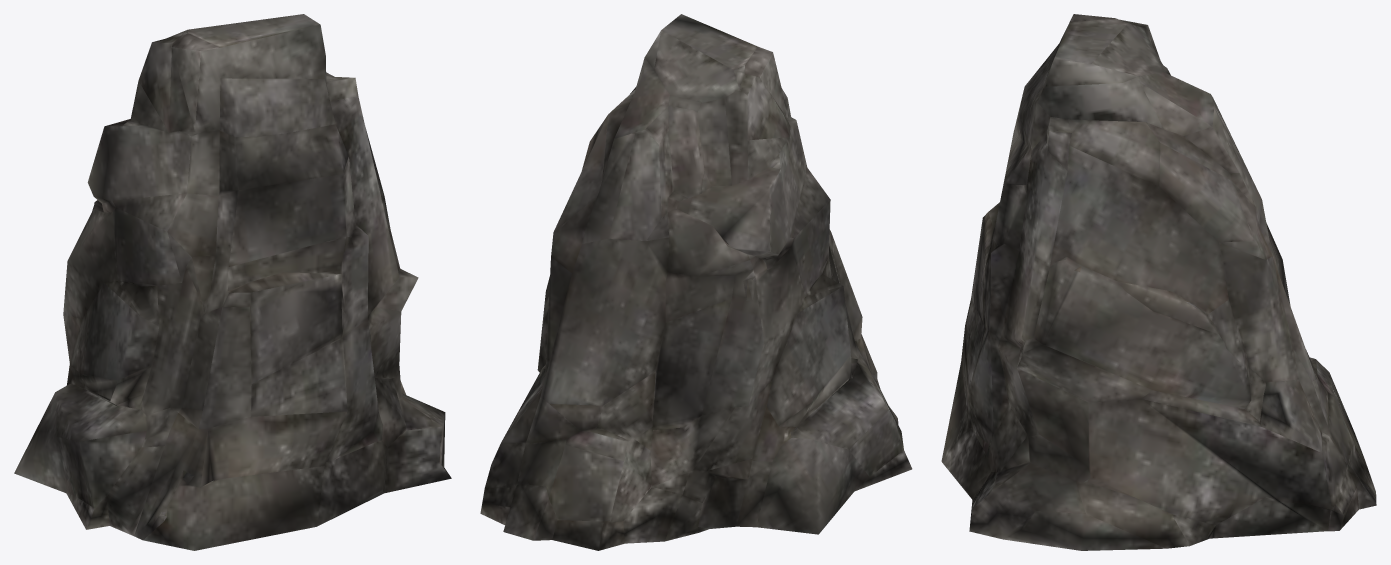
The model's file is rock-tall.lod0.glb.
The picture shows the model from 3 angles, left to right: view 1: azimuth 30°, elevation 25°; view 2: azimuth 150°, elevation 25°; view 3: azimuth 270°, elevation 25°; orthographic projection. The views are drawn at different scales.
Parts seen in each view (by area): view 1: low_poly__0; view 2: low_poly__0; view 3: low_poly__0.
Boxes of the visible parts, <box> form: low_poly__0: <box>14,14,451,550</box>; low_poly__0: <box>480,14,912,550</box>; low_poly__0: <box>941,14,1376,550</box>.
Bounding box in the file's own units: 5.48 × 6.64 × 5.93.
Materials: 1 (1 with a texture image).
